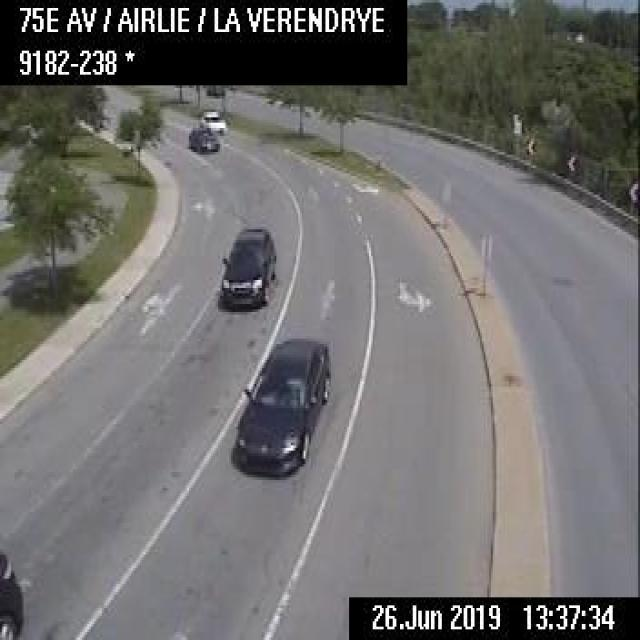vehicle: (232, 335, 330, 474), (218, 224, 276, 305), (0, 546, 25, 637), (185, 124, 214, 152), (198, 107, 225, 134)
